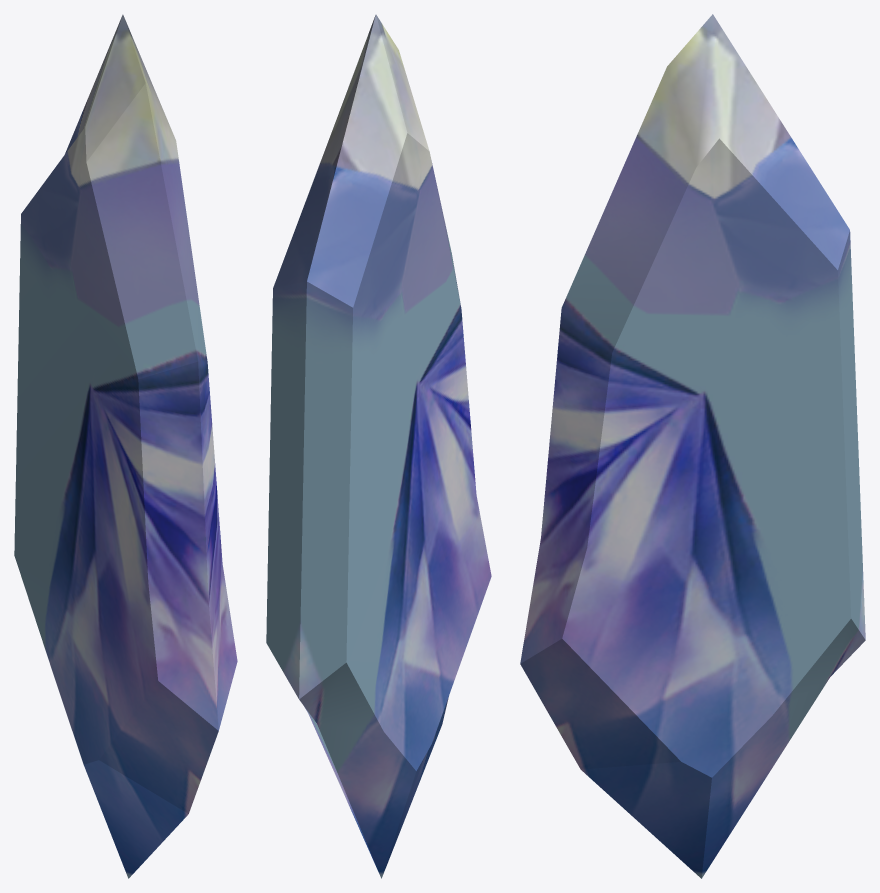
The model's file is Skill 1 Mirror 3.glb.
3 views of the same model, side by side, from view 1: azimuth 30°, elevation 25°; view 2: azimuth 150°, elevation 25°; view 3: azimuth 270°, elevation 25° (orthographic).
Parts seen in each view (by area): view 1: cyrene_00_skill01_mirror03_LOD0; view 2: cyrene_00_skill01_mirror03_LOD0; view 3: cyrene_00_skill01_mirror03_LOD0.
Part boxes in pixels (<box>): cyrene_00_skill01_mirror03_LOD0: <box>14,14,237,878</box>; cyrene_00_skill01_mirror03_LOD0: <box>266,14,491,878</box>; cyrene_00_skill01_mirror03_LOD0: <box>520,14,865,878</box>.
Bounding box in the file's own units: 0.1485 × 1.36 × 0.4931.
Materials: 1 (1 with a texture image).
